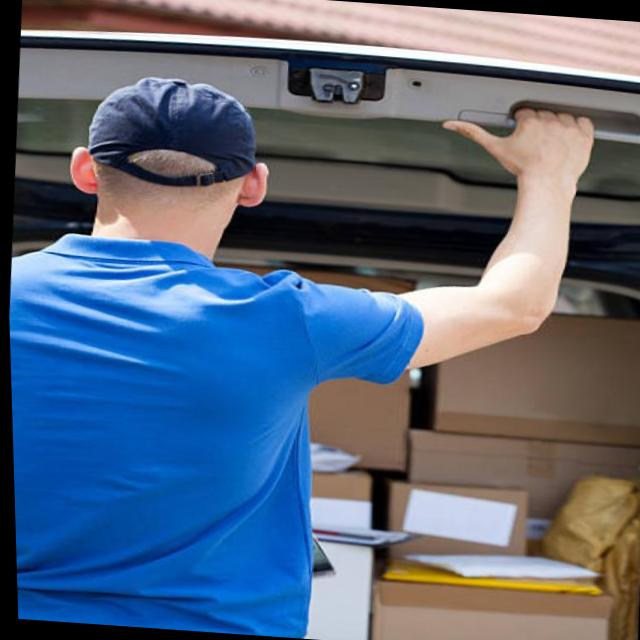no helmet: (53, 70, 283, 260)
